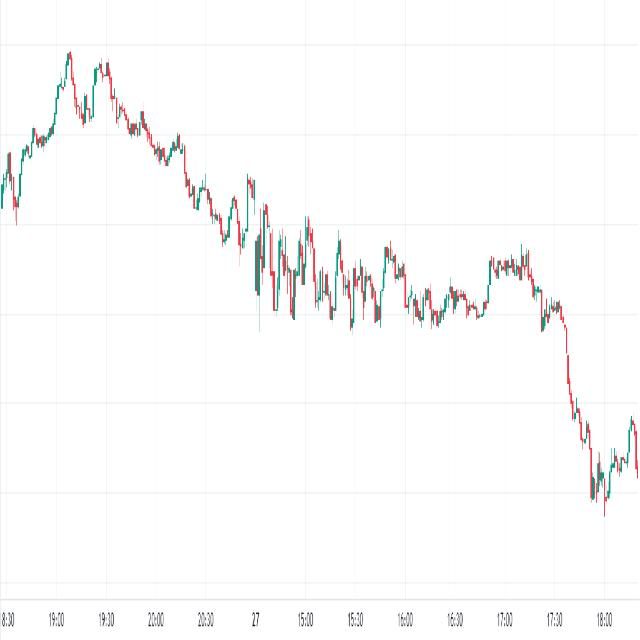Descending-Triangle: (233, 114, 532, 345)
